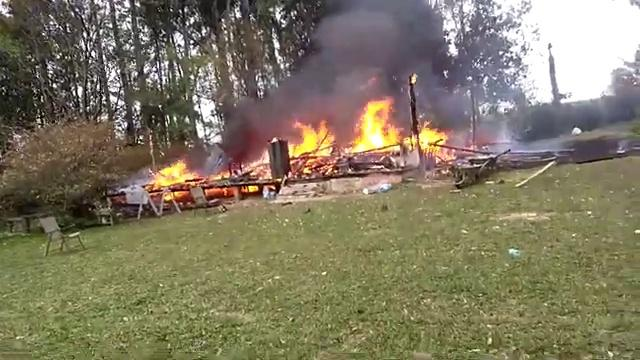fire: (357, 108, 400, 147), (300, 128, 337, 160), (157, 164, 195, 188)
smoke: (297, 27, 390, 115)
